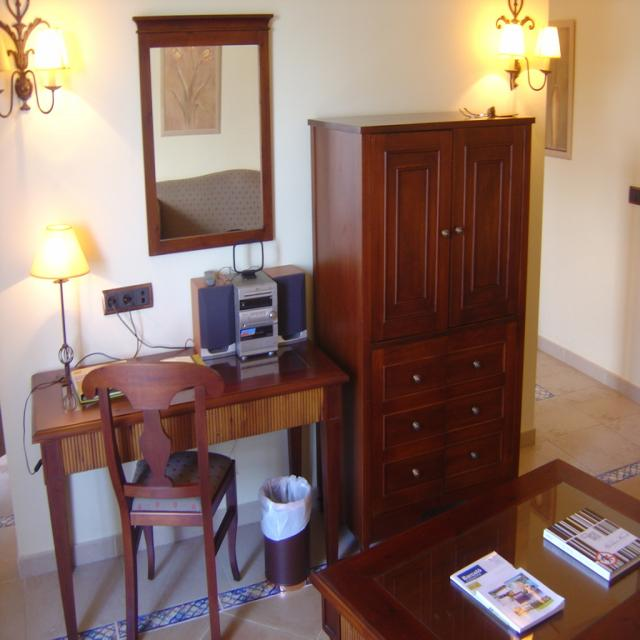chair: (92, 359, 240, 640)
desk: (29, 336, 329, 629)
